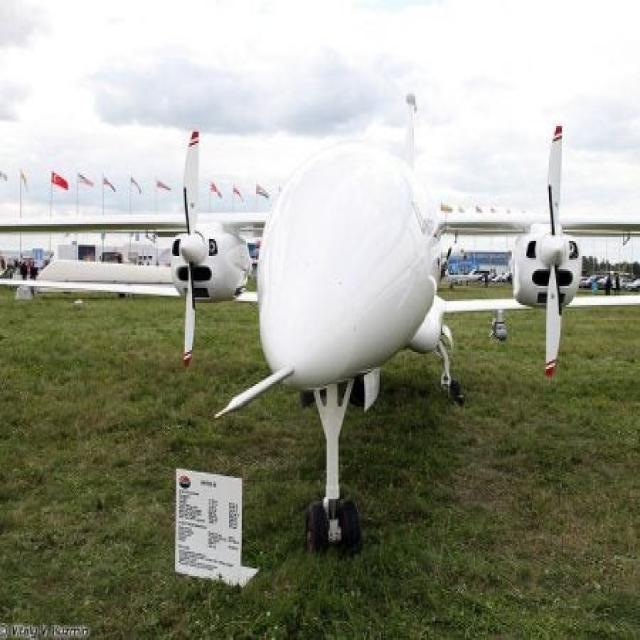iha: (1, 89, 640, 577)
